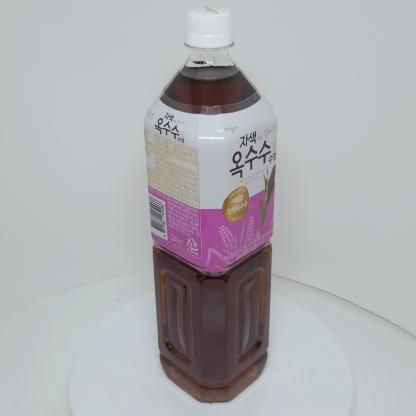----------1-5L: (144, 5, 277, 403)
